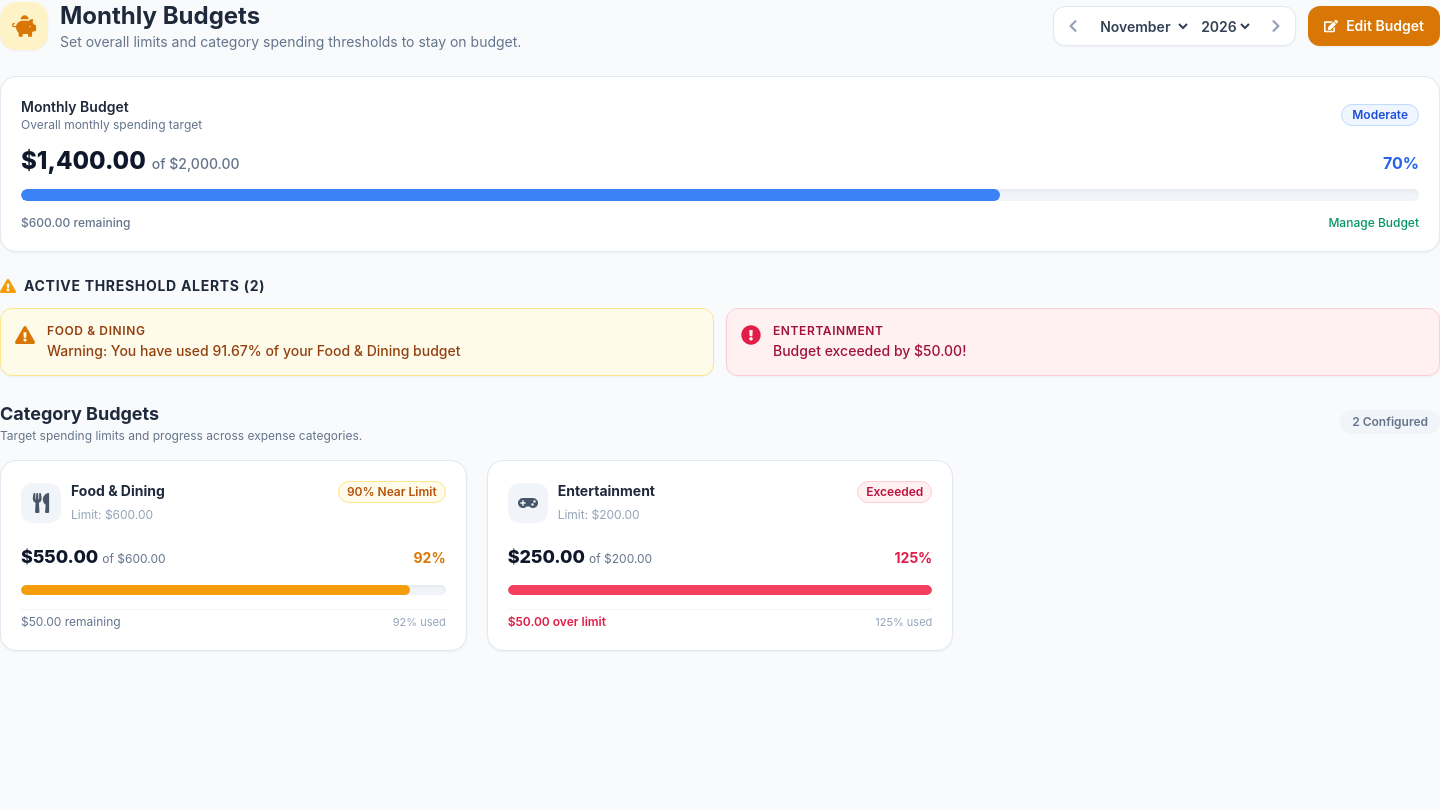
it: BudgetsPage Component › syncs selected month and year when BudgetModal saves a budget for a different month
Open modal
Click the button with test id "set-budget-cta".
click(1374, 26)  # box [1308,6,1439,46]
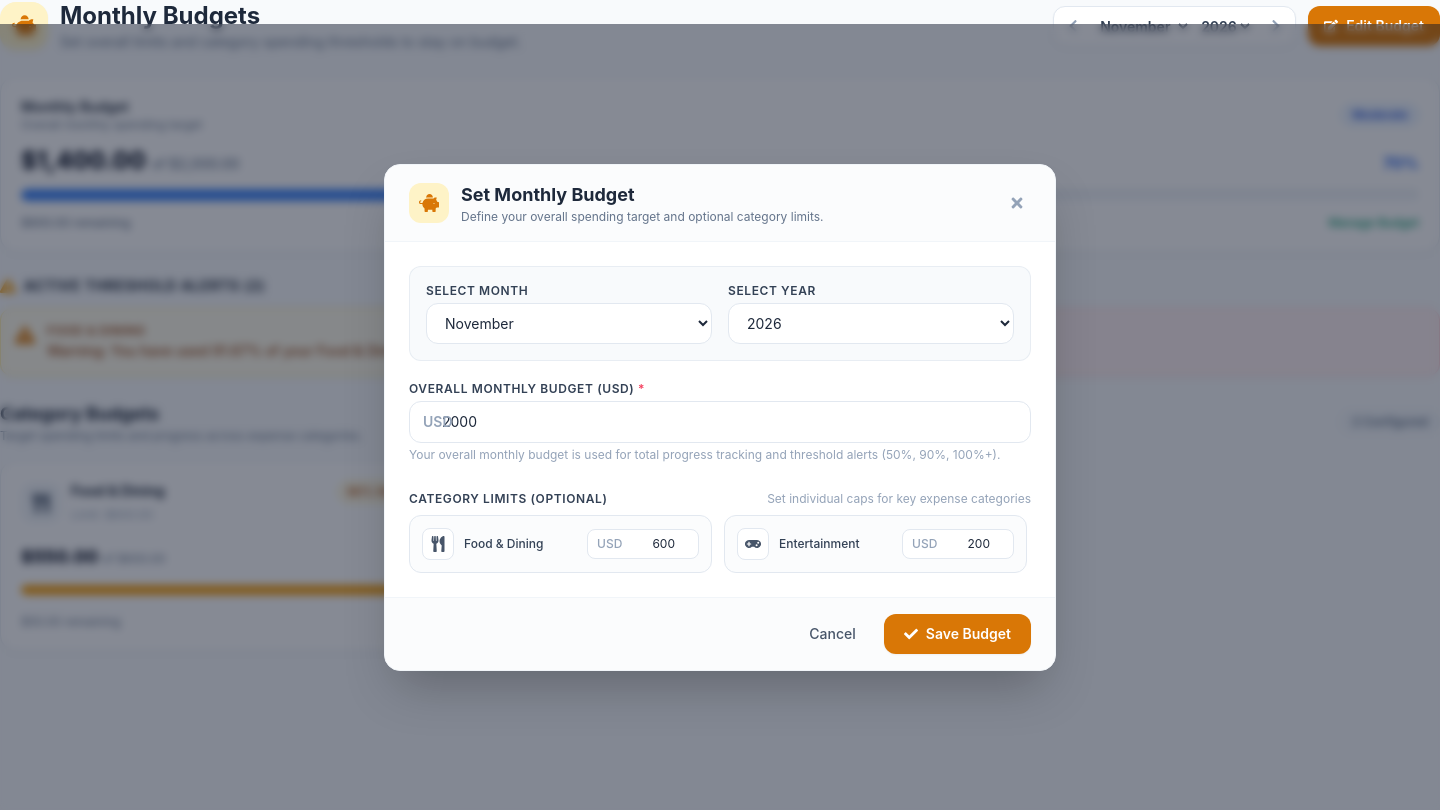
Change month in modal to August (8)
Select "August" in the dropdown with id "budget-month" at (569, 323), box [426,302,712,344]
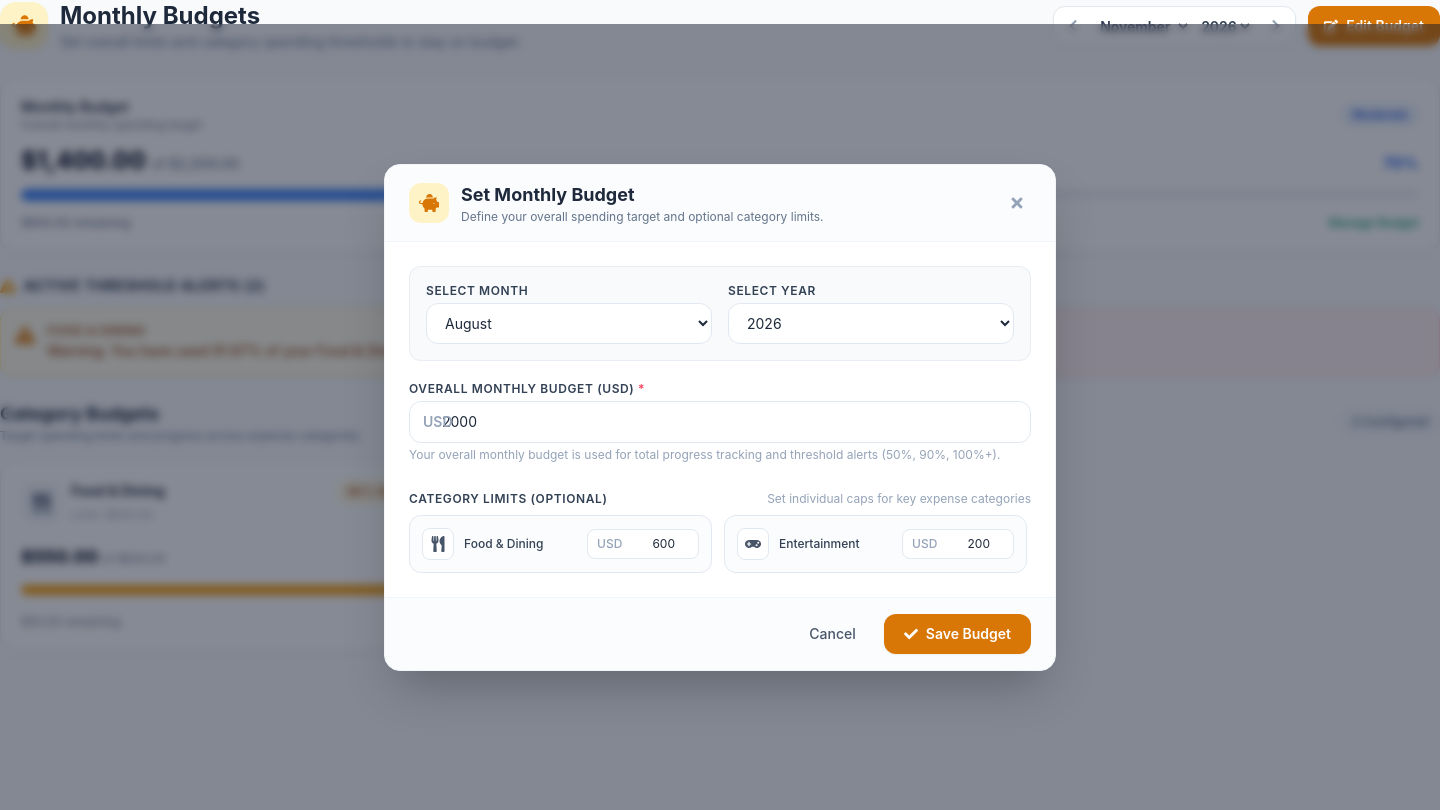
Replace the text in the number field labelled "Overall Monthly Budget (USD) *" with "3000" at (720, 422), box [409,400,1031,442]
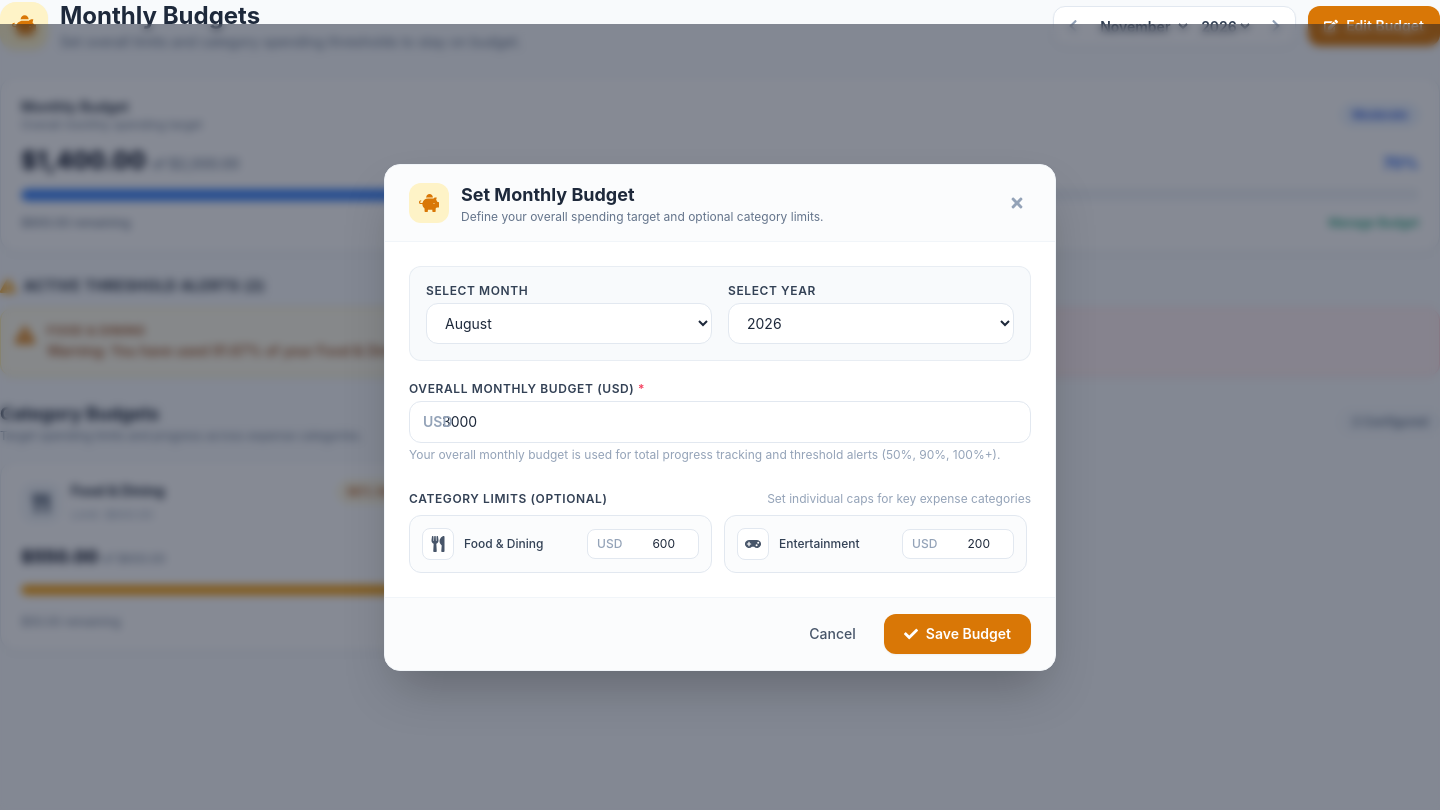
Click the button "Save Budget".
click(957, 634)  # box [884,614,1031,654]
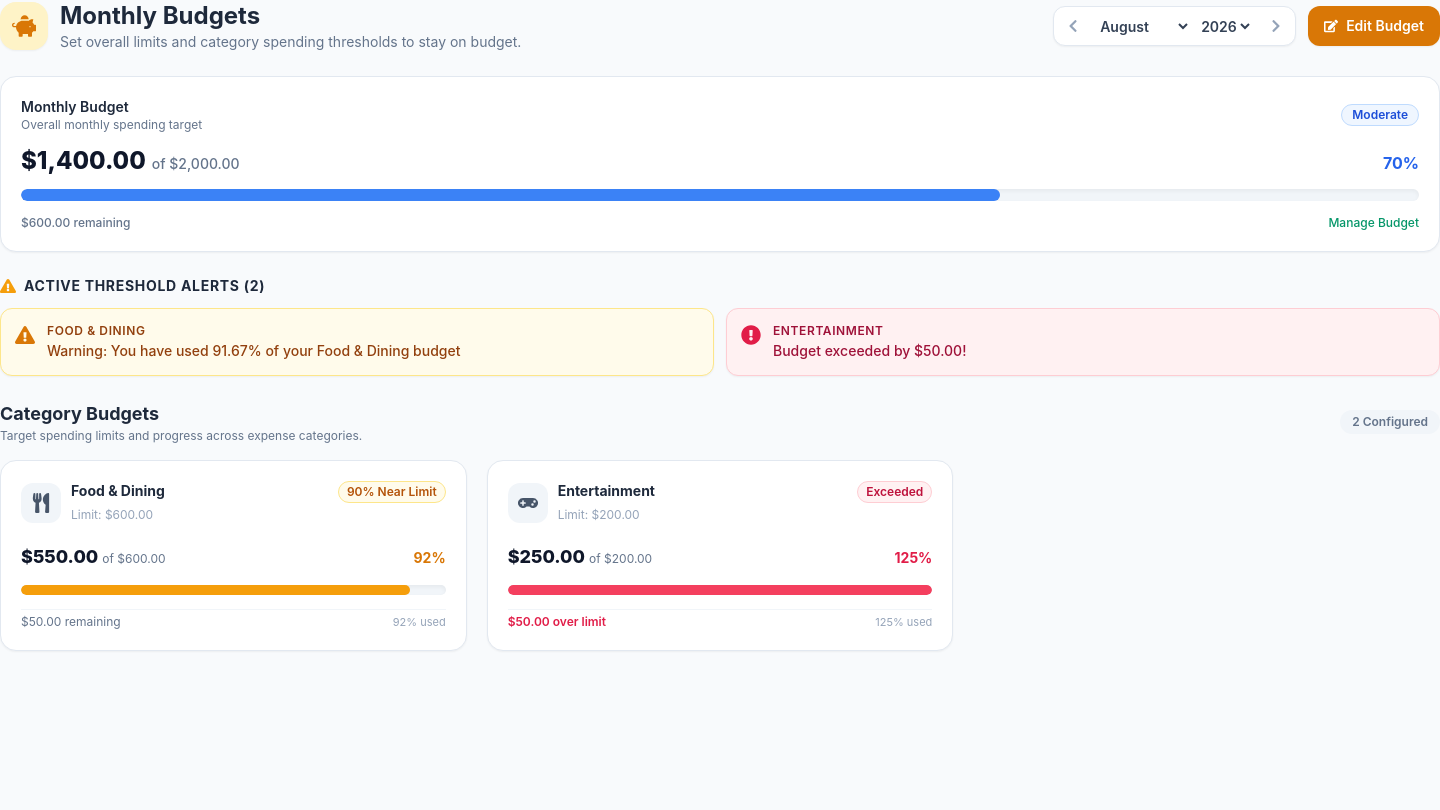
expect the dropdown with test id "budget-month-select" shows "August": met, box [1096,12,1191,40]
